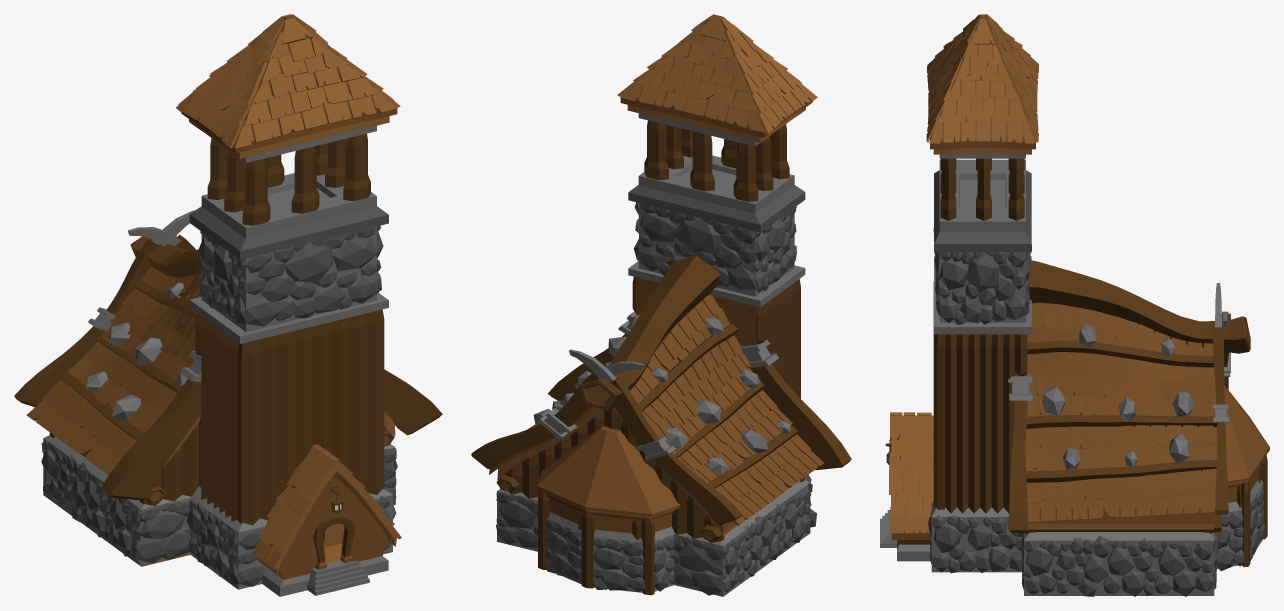
Rendered from B_Church.fbx.
The picture shows the model from 3 angles, left to right: view 1: azimuth 30°, elevation 25°; view 2: azimuth 150°, elevation 25°; view 3: azimuth 270°, elevation 25°; orthographic projection. The views are drawn at different scales.
Visible parts, largest first — view 1: B_Church; view 2: B_Church; view 3: B_Church.
Boxes of the visible parts, x1,y1,x2,y2 form: B_Church: [14, 14, 442, 596]; B_Church: [471, 14, 851, 596]; B_Church: [880, 14, 1269, 596].
Bounding box in the file's own units: 1100 × 1700 × 1153.
